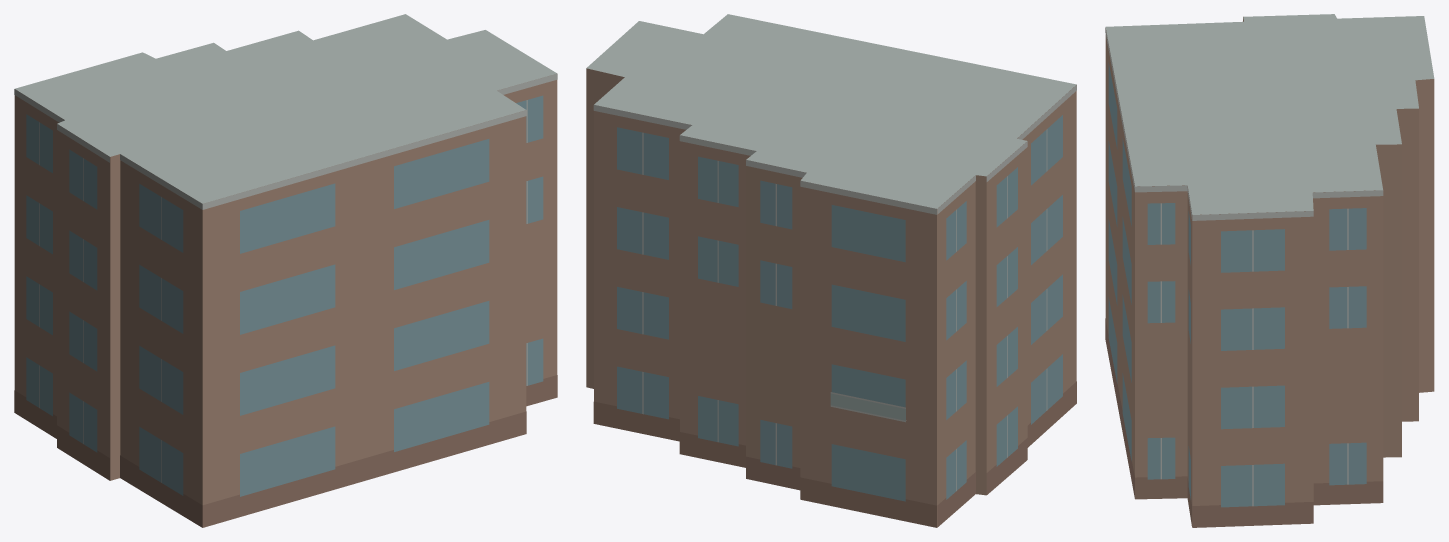
The model's file is survey-upis-32706408.glb.
3 views of the same model, side by side, from view 1: azimuth 30°, elevation 25°; view 2: azimuth 150°, elevation 25°; view 3: azimuth 270°, elevation 25° (orthographic). The views are drawn at different scales.
Visible parts, largest first — view 1: survey-upis-32706408.tmp; view 2: survey-upis-32706408.tmp; view 3: survey-upis-32706408.tmp.
Part boxes in pixels (x1=…): survey-upis-32706408.tmp: x1=14, y1=14, x2=557, y2=527; survey-upis-32706408.tmp: x1=586, y1=14, x2=1076, y2=527; survey-upis-32706408.tmp: x1=1105, y1=14, x2=1434, y2=527.
Bounding box in the file's own units: 17.79 × 12.9 × 12.3.
